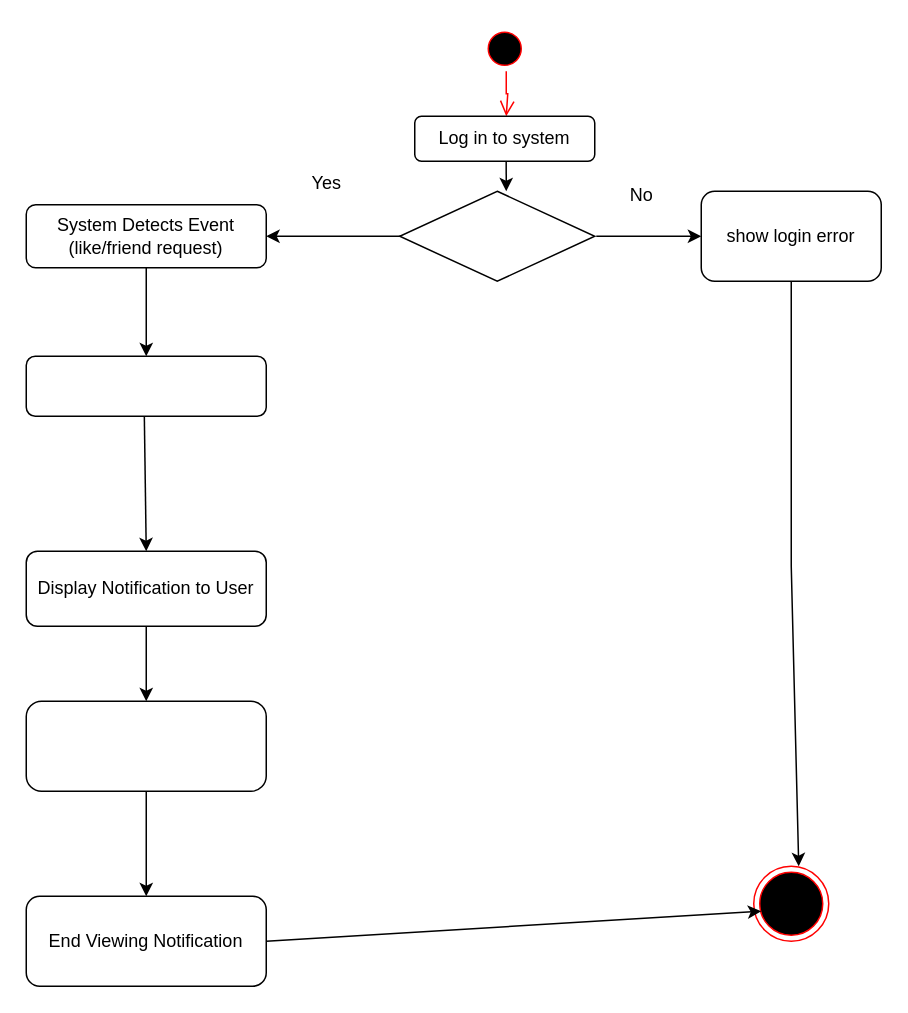
Some shapes in this 908 by 1013 pixel diagram are drawn without their labels. Here are the shapes that lost their labels. From the top down, the box of each, then its label:
(398, 190, 595, 281): Is user logged in?
(25, 355, 266, 416): Create Notification
(25, 700, 266, 791): User Views Notification
